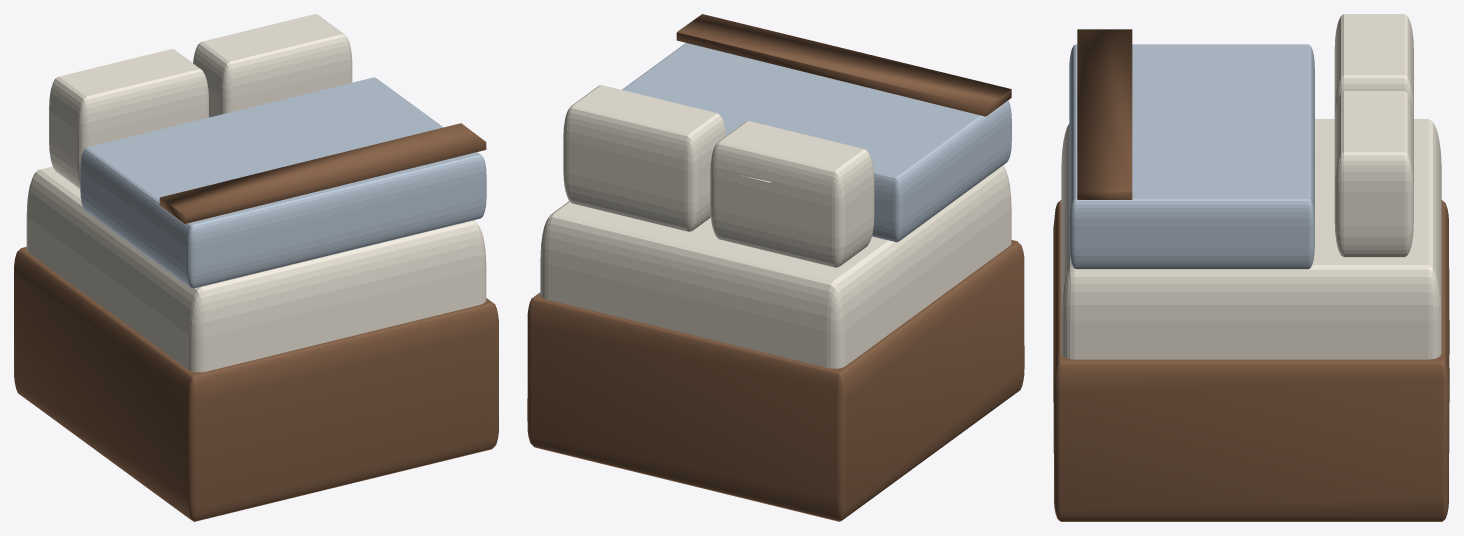
The model's file is bed-2-5.lod.glb.
The picture shows the model from 3 angles, left to right: view 1: azimuth 30°, elevation 25°; view 2: azimuth 150°, elevation 25°; view 3: azimuth 270°, elevation 25°; orthographic projection. The views are drawn at different scales.
Visible parts, largest first — view 1: tailored-cushion (×2), part; view 2: tailored-cushion (×2), part; view 3: tailored-cushion (×2), part.
Boxes of the visible parts, box(x1,y1,x2,y2) form: tailored-cushion (×2): box(26, 14, 486, 372); part: box(14, 123, 498, 521); tailored-cushion (×2): box(540, 43, 1011, 368); part: box(527, 14, 1024, 521); tailored-cushion (×2): box(1061, 14, 1441, 359); part: box(1053, 29, 1449, 521).
Size of the model in its own units: 1 by 1 by 1.
